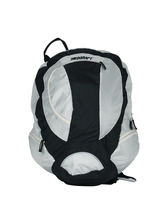bag: (26, 37, 145, 188)
